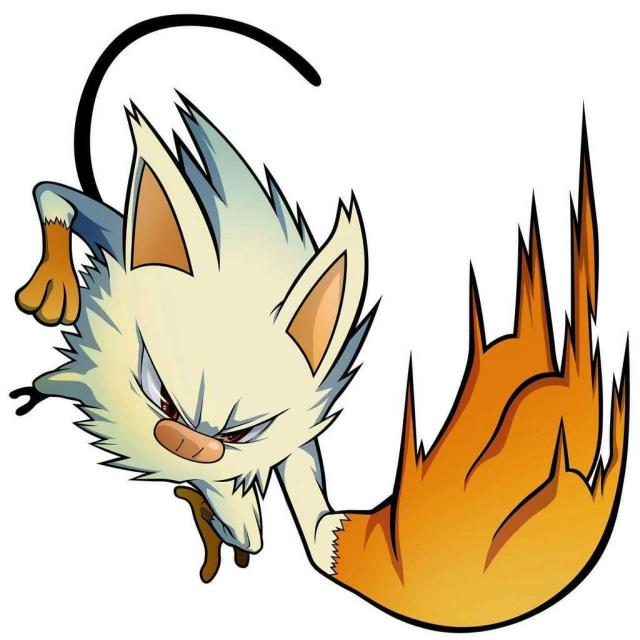Mankey: (18, 90, 392, 583)
